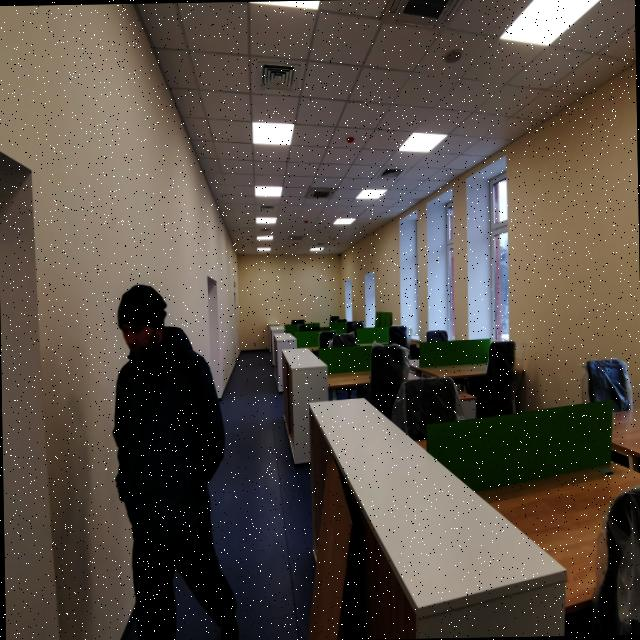NoHelmet: (117, 284, 170, 364)
